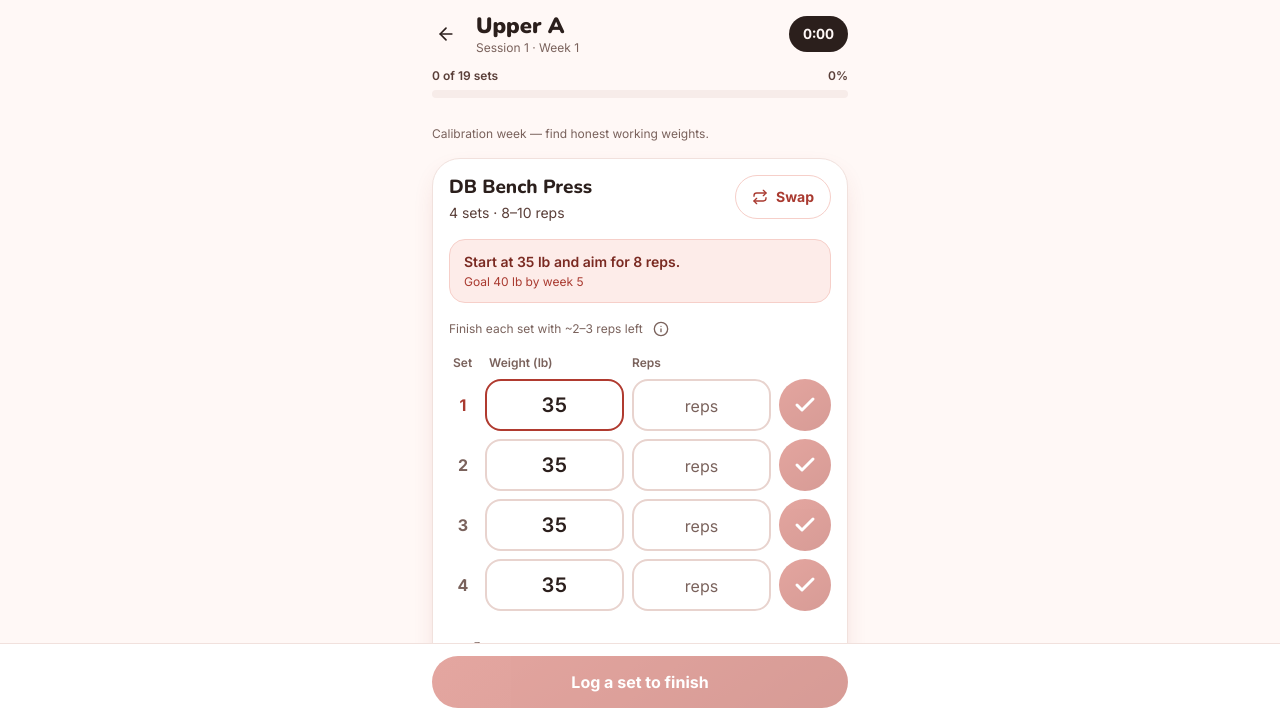
it: WorkoutPage › logs a set, then moves focus to the next set’s reps
The image size is (1280, 720).
Expected: the button named "Log set 1" is shown, [779,379,831,431]
Expected: the number field named "Set 1 weight (lb)" holds "35", [485,379,624,431]
Type "10" into the number field named "Set 1 reps" at (702, 405), box [632,379,771,431]
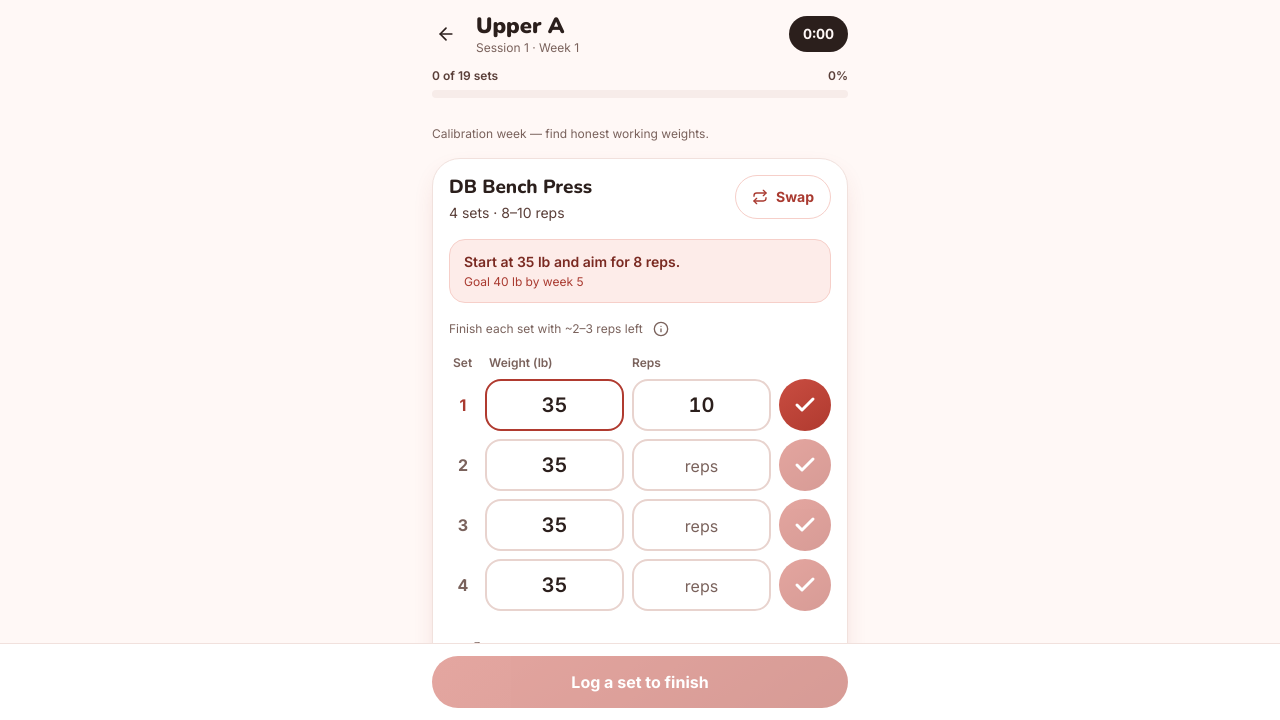
Click the button named "Log set 1" at (805, 405), box [779,379,831,431]
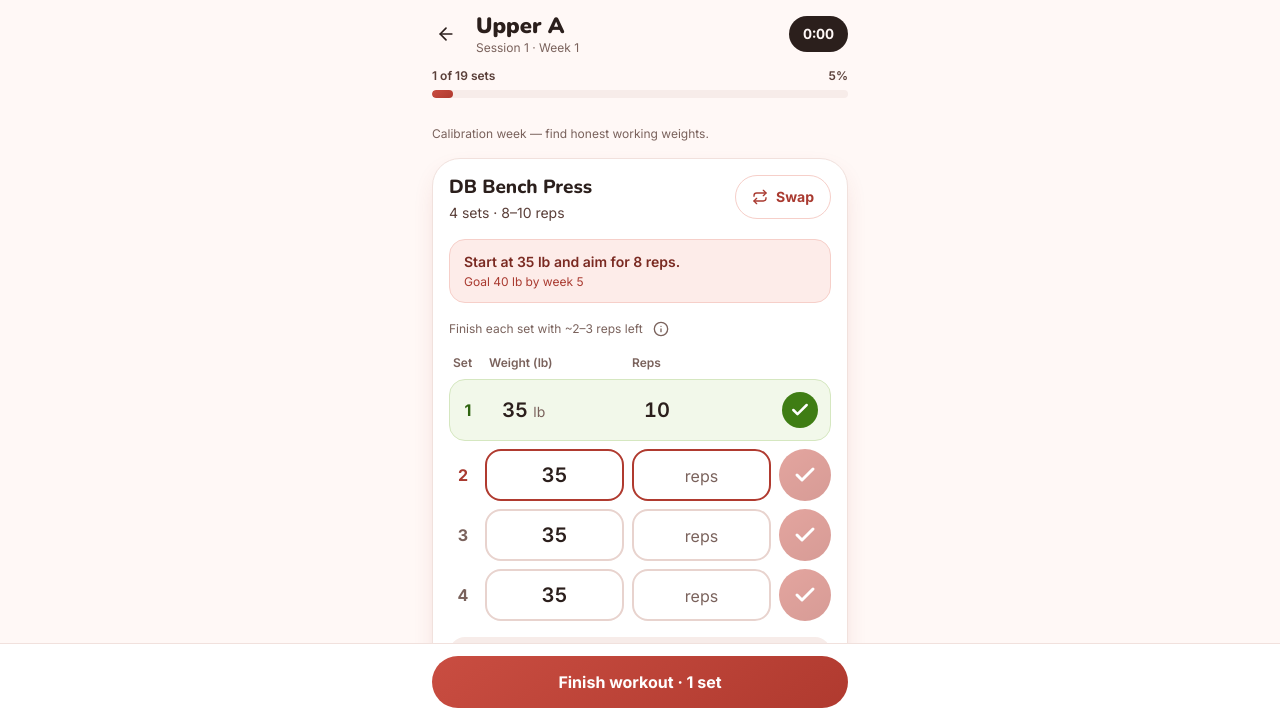
Now the text "1 of 19 sets" is shown, box [432,68,495,84]
Now the button "Finish workout · 1 set" is shown, box [432,656,848,708]
